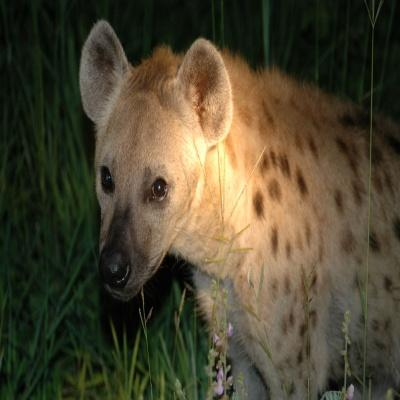hyenas: (36, 12, 400, 393)
